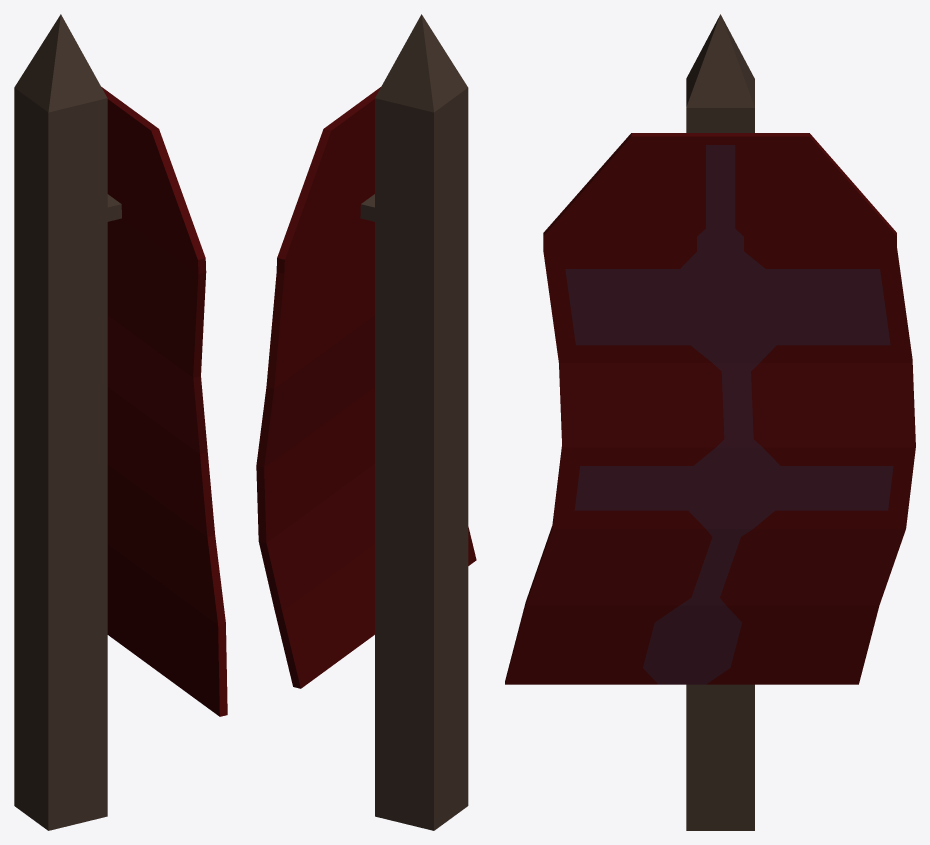
File: flage.fbx
3 views of the same model, side by side, from view 1: azimuth 30°, elevation 25°; view 2: azimuth 150°, elevation 25°; view 3: azimuth 270°, elevation 25° (orthographic).
Parts seen in each view (by area): view 1: Cube; view 2: Cube; view 3: Cube.
Part boxes in pixels (left/top/right/bottom): Cube: left=14, top=14, right=227, bottom=830; Cube: left=256, top=14, right=476, bottom=830; Cube: left=505, top=14, right=915, bottom=830.
Bounding box in the file's own units: 132 × 999 × 464.
